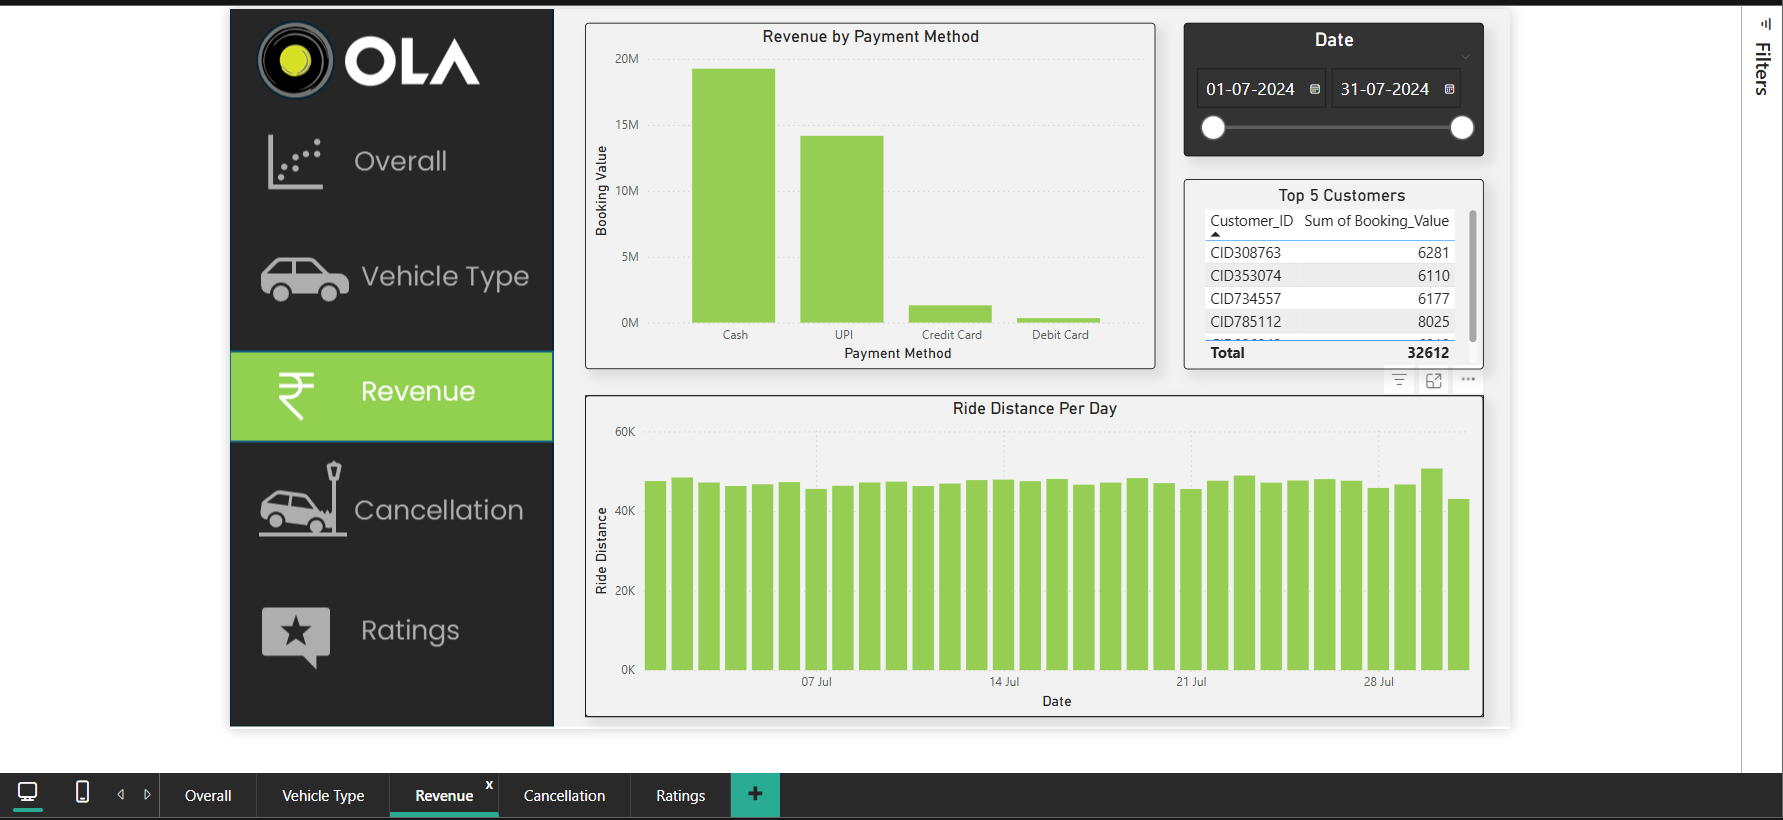

What the dashboard file says about the page in this screenshot:
{"tool":"powerbi","page":{"name":"Revenue","canvas":[1280,720],"ordinal":2},"visuals":[{"type":"actionButton","box":[0,450,324.4,91.1],"z":0},{"type":"actionButton","box":[0,223.3,324.4,91.1],"z":1000},{"type":"actionButton","box":[0,580,324.4,91.1],"z":2000},{"type":"actionButton","box":[0,114.4,324.4,91.1],"z":3000},{"type":"columnChart","title":"Revenue By Payment ","fields":{"Y":["Sum(Booking.Booking_Value)"]},"box":[325,0,639.1,321.9],"z":4000},{"type":"columnChart","title":"Revenue By Payment ","fields":{"Y":["Sum(Booking.Ride_Distance)"],"Category":["Booking.Date"]},"box":[325,321.4,954.8,386.9],"z":5000},{"type":"slicer","title":"Date","fields":{"Values":["Booking.Date"]},"box":[964.3,0,315.5,119],"z":6000},{"type":"tableEx","title":"Top 5 Customers","fields":{"Values":["Sum(Booking.Booking_Value)","Booking.Customer_ID"]},"box":[965.5,119,314.3,206],"z":7000}]}

Visuals, with their boxes on the page's 1280x720 design canvas (x1, y1, x2, y2). These are canvas units, not pixel positions in the 1783x820 screenshot, which may show the page scaled, cropped or inside an application window:
actionButton: region(0, 450, 324, 541)
actionButton: region(0, 223, 324, 314)
actionButton: region(0, 580, 324, 671)
actionButton: region(0, 114, 324, 206)
"Revenue By Payment " columnChart: region(325, 0, 964, 322)
"Revenue By Payment " columnChart: region(325, 321, 1280, 708)
"Date" slicer: region(964, 0, 1280, 119)
"Top 5 Customers" tableEx: region(966, 119, 1280, 325)
